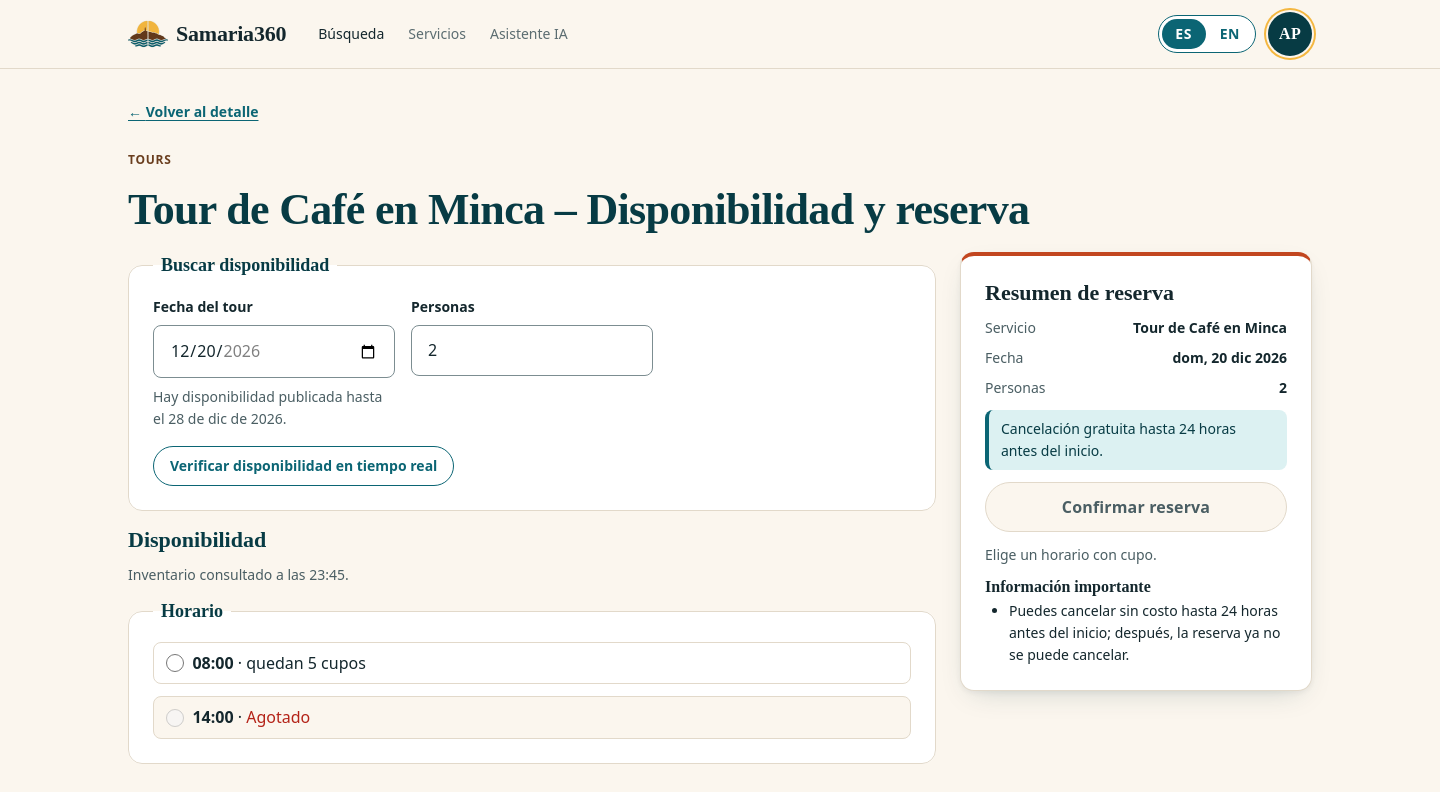
Test: WF-10, tour › los horarios son radios con su cupo; el agotado queda deshabilitado con «Agotado»
The width and height of the screenshot is (1440, 792).
Expected: the radio button labelled "14:00 · Agotado" is disabled, [166,708,184,727]
Click the radio button labelled "08:00 · quedan 5 cupos" at [175, 663], box [166,654,184,672]
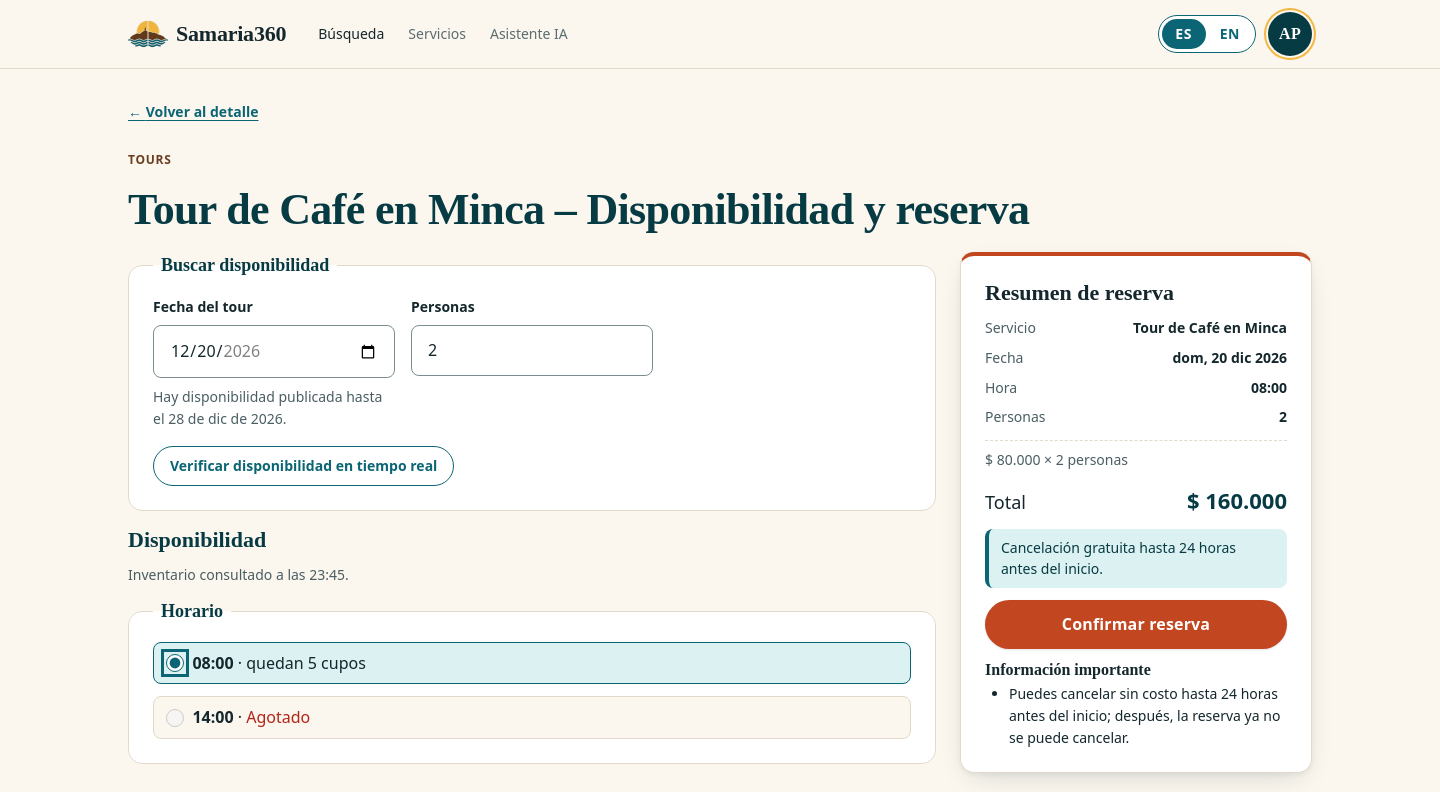
Result: the text "$ 80.000 × 2 personas" is shown at [985,440,1287,471]
Click the button "Confirmar reserva" at [1136, 624], box [985,600,1287,649]
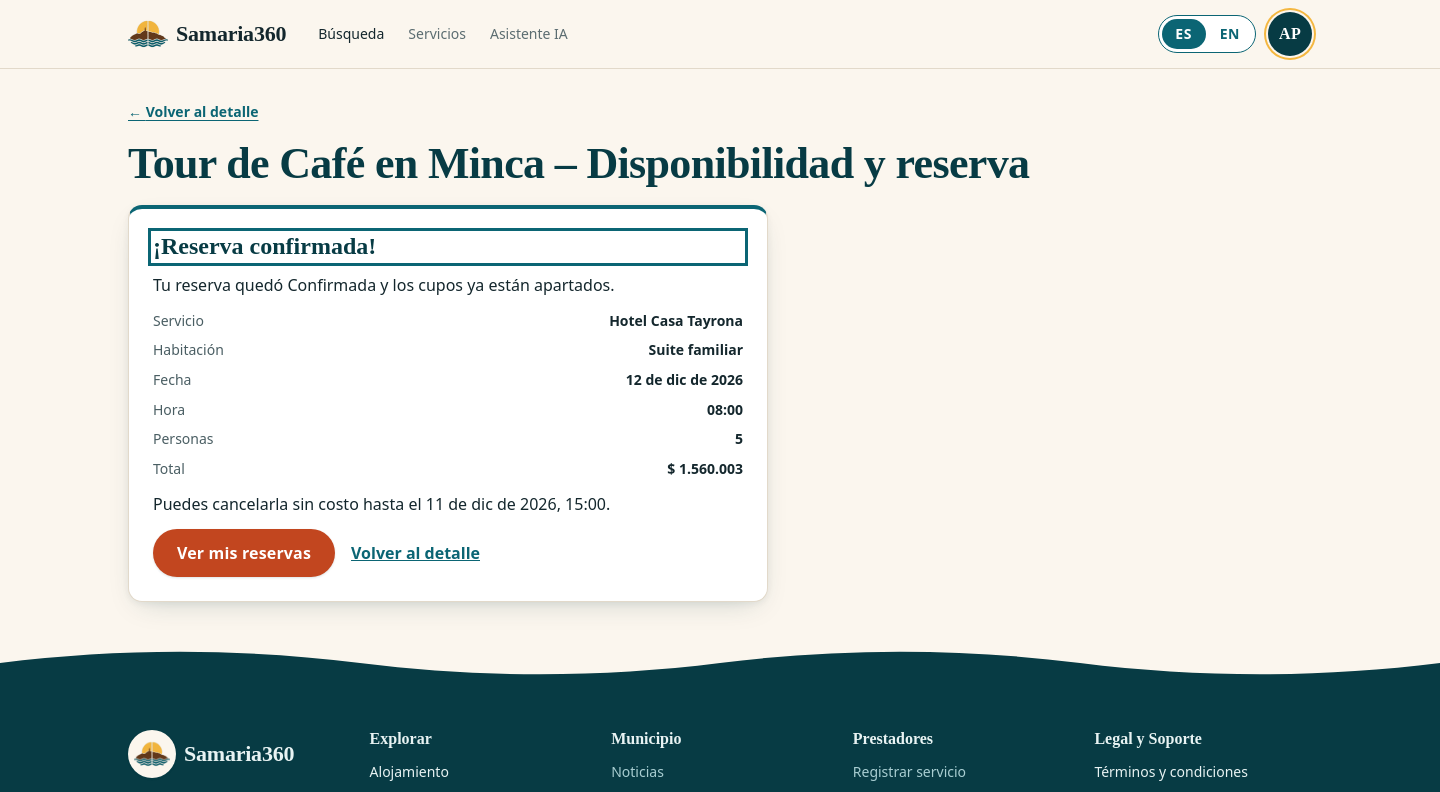
Result: the heading "¡Reserva confirmada!" is shown at [153,233,376,259]
